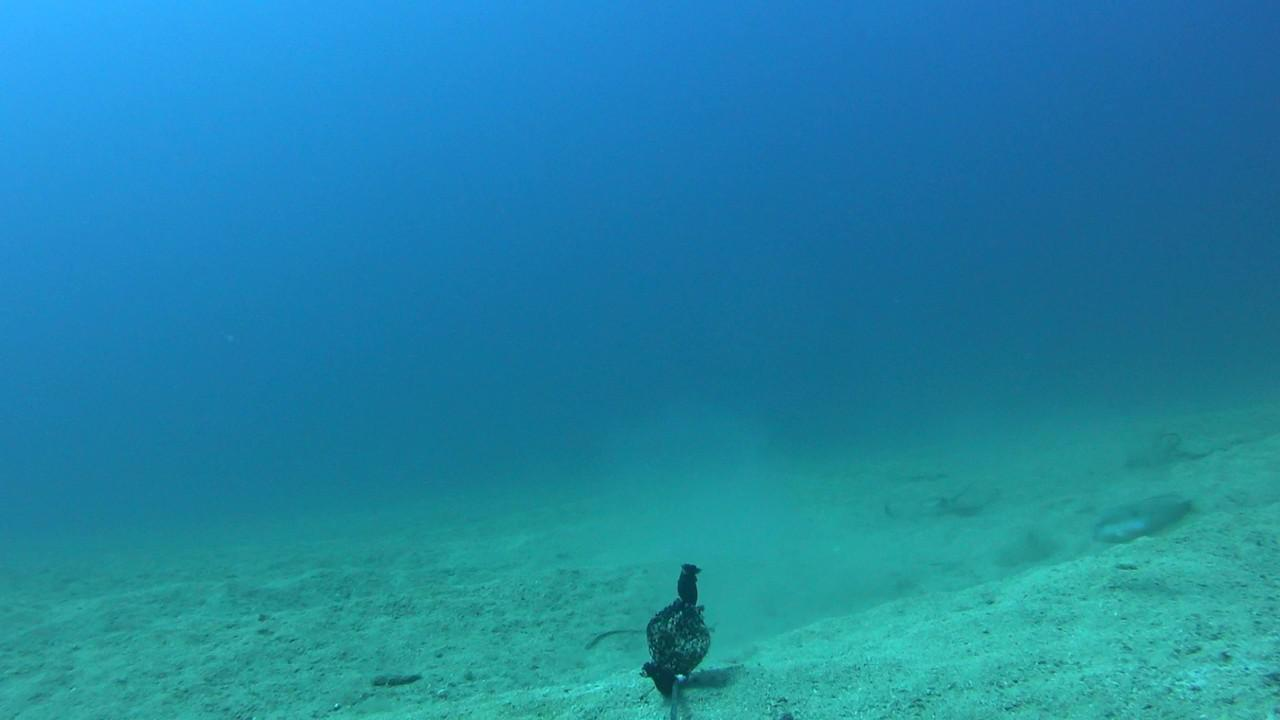myliobatis: (876, 474, 1021, 525)
raor: (1089, 489, 1199, 544)
